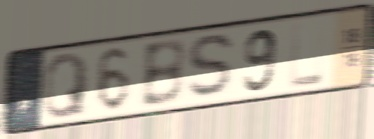6: (96, 44, 132, 114)
9: (242, 27, 277, 93)
B: (138, 35, 188, 111)
L: (289, 19, 327, 91)
Q: (41, 50, 92, 122)
S: (184, 31, 239, 102)
